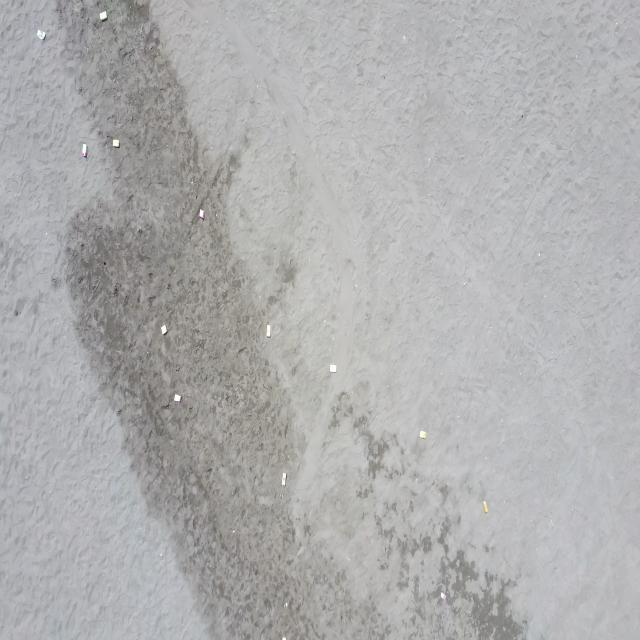retort-pouch: (98, 8, 108, 24), (198, 208, 208, 222), (80, 142, 88, 159), (483, 498, 491, 515), (265, 323, 273, 340), (280, 472, 288, 488), (36, 29, 47, 40), (160, 323, 168, 338), (419, 428, 427, 442), (329, 362, 337, 375), (112, 137, 120, 150), (440, 589, 447, 602), (174, 392, 181, 404)
